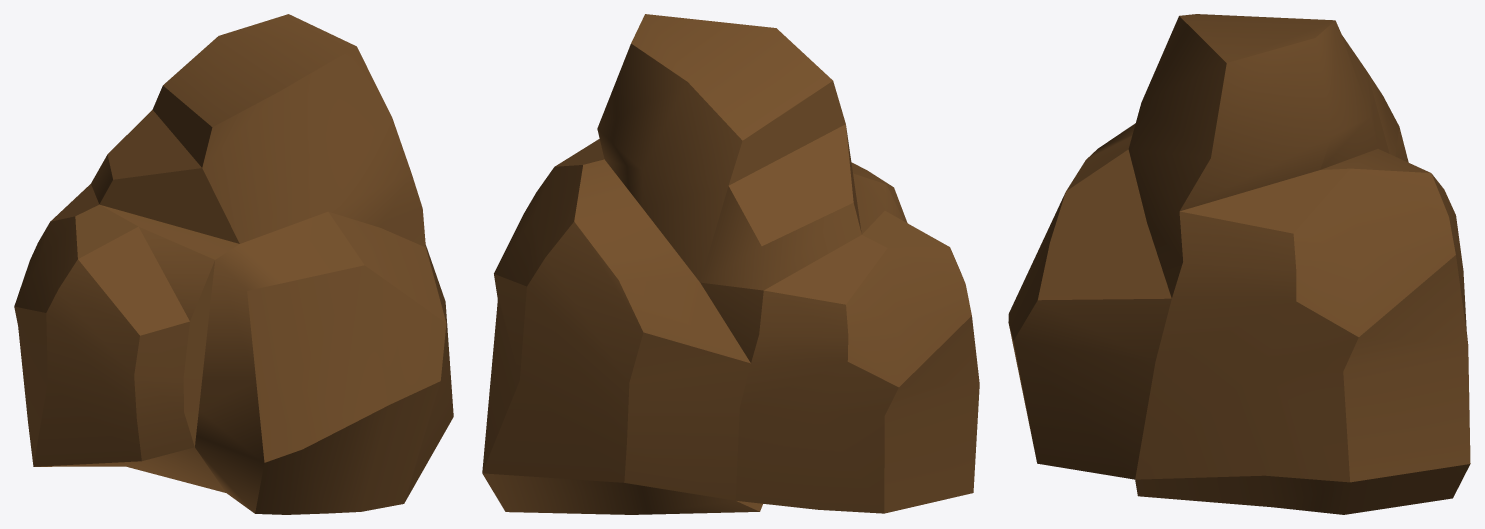
Rendered from quaternius-ultimate-space-rock-2-transformed.glb.
3 renders of one model, left to right at view 1: azimuth 30°, elevation 25°; view 2: azimuth 150°, elevation 25°; view 3: azimuth 270°, elevation 25°, orthographic. The views are drawn at different scales.
Visible parts, largest first — view 1: Rock_2; view 2: Rock_2; view 3: Rock_2.
Part boxes in pixels (<box>): Rock_2: <box>14,14,453,514</box>; Rock_2: <box>482,14,979,514</box>; Rock_2: <box>1008,14,1470,514</box>.
Bounding box in the file's own units: 2.74 × 2.71 × 2.52.
Materials: 1 (1 with a texture image).
